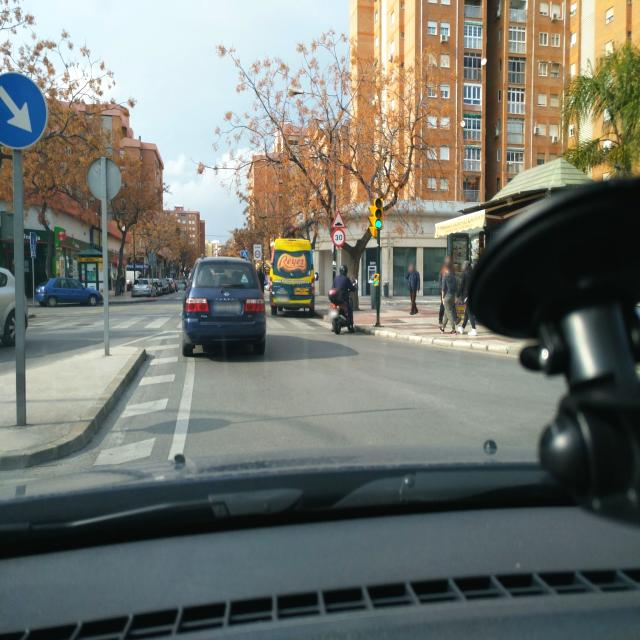bike: (328, 285, 356, 335)
car: (181, 256, 267, 357), (269, 238, 316, 317), (36, 276, 103, 308), (0, 262, 22, 354), (131, 278, 156, 297), (159, 278, 170, 294), (152, 278, 162, 295), (167, 279, 177, 292)
